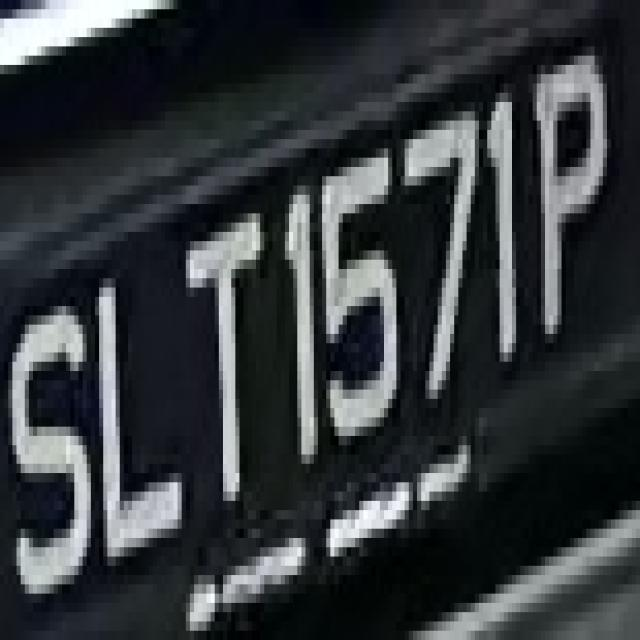1: (470, 46, 532, 408), (272, 130, 334, 491)
5: (318, 120, 405, 454)
7: (376, 93, 479, 436)
L: (91, 241, 186, 575)
P: (516, 56, 611, 343)
S: (12, 241, 91, 603)
T: (178, 204, 280, 519)
